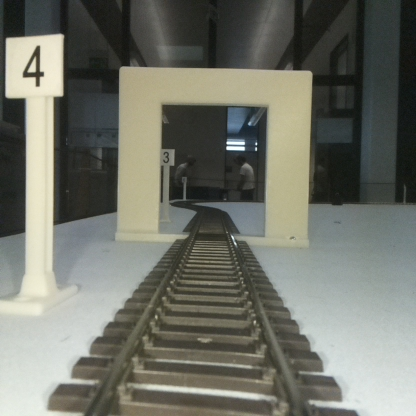white-info-3: (160, 148, 174, 220)
white-info-4: (5, 35, 63, 309)
